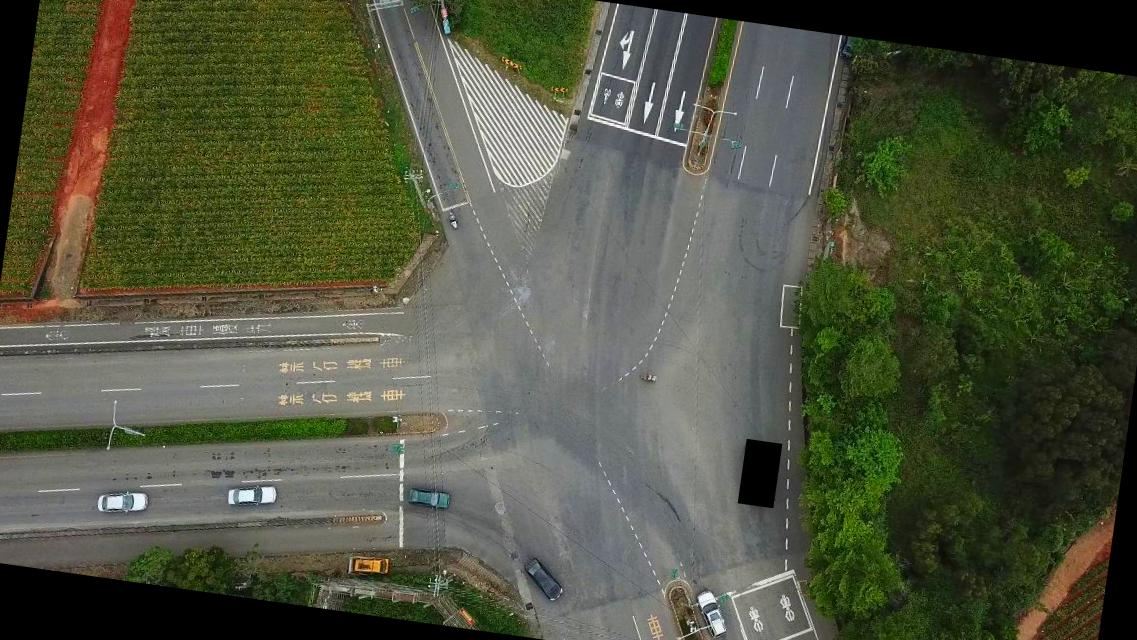vehicle: (521, 558, 568, 602), (691, 589, 732, 639), (95, 486, 148, 519), (226, 480, 279, 511), (405, 486, 452, 511), (350, 554, 390, 578), (838, 36, 859, 62)
